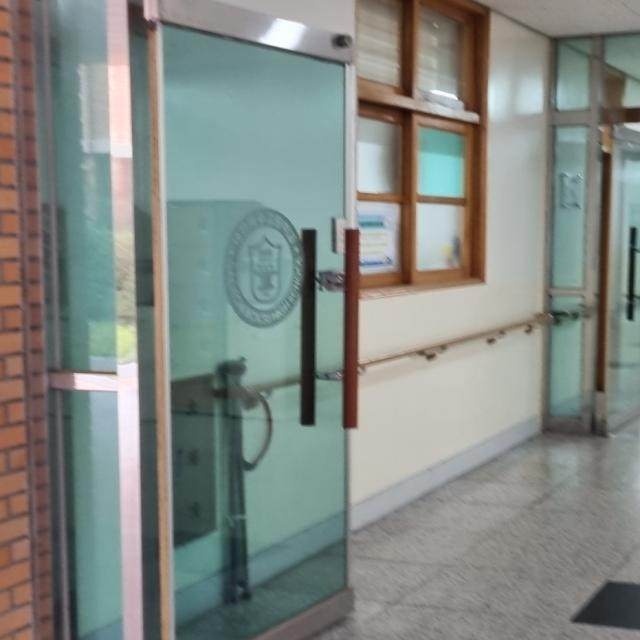logo: (217, 205, 314, 332)
